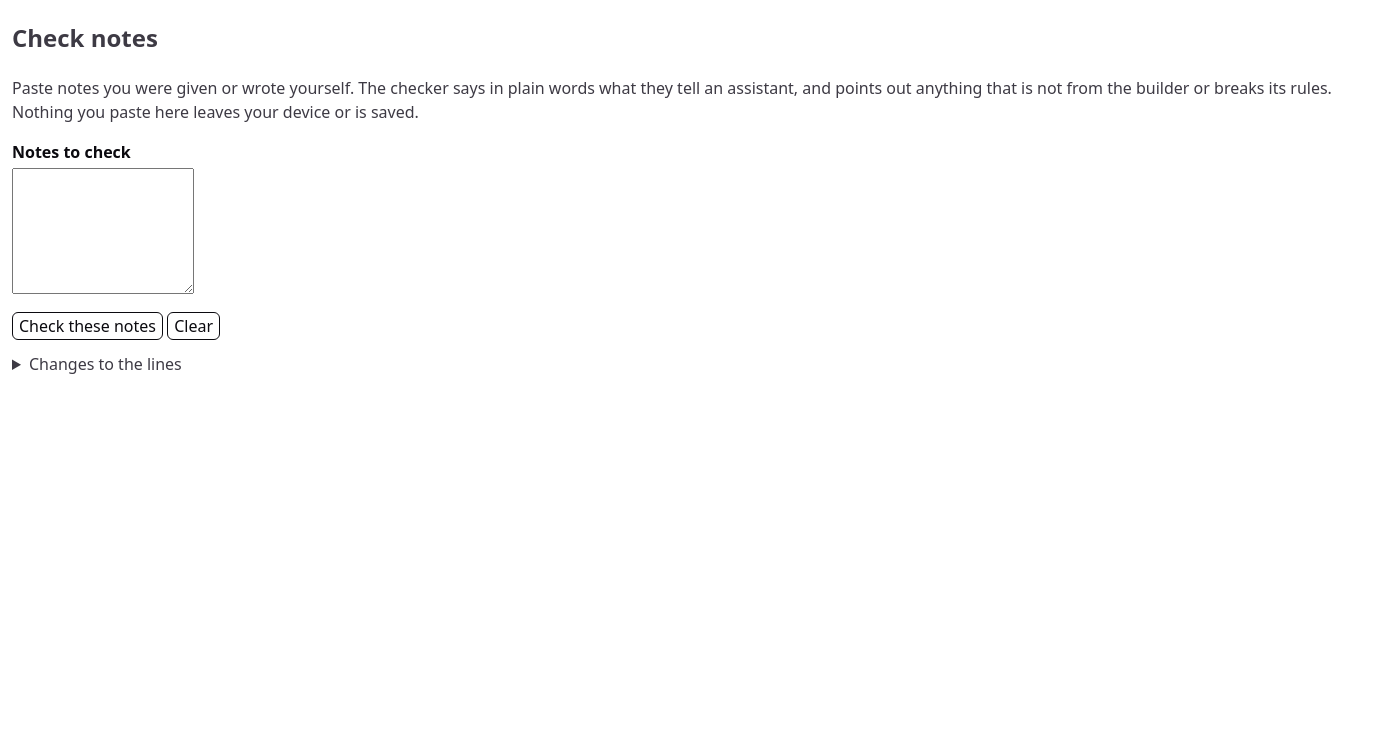
Test case: the checker › reads clean notes and says what each line tells the assistant, in plain words
Type "# How I like explanations My own preferences, not an assessment of me. Written 2026-11. After 2027-05, or if you can't tell today's date, check with me before relying on the topic lines. ## Always - M" into the text box with id "check-input" at (103, 231), box [12,168,194,294]
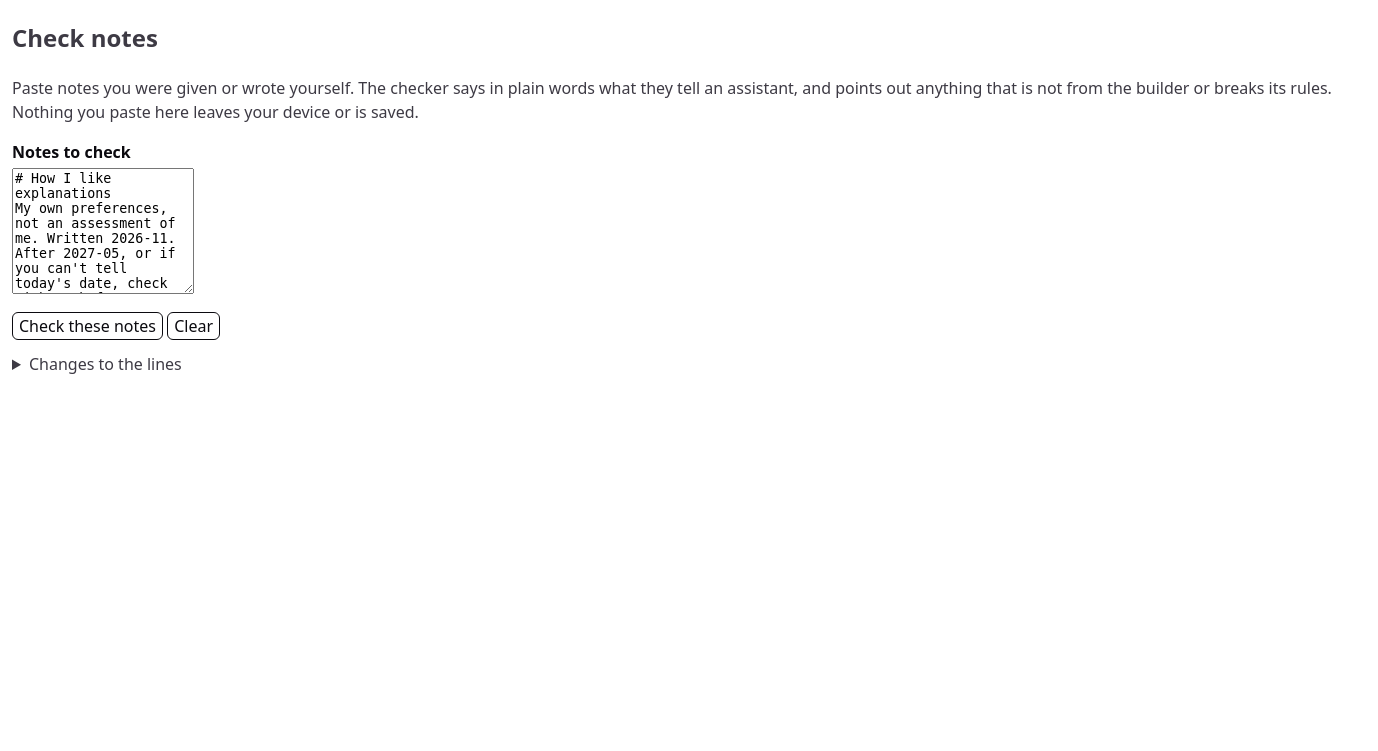
Click the button "Check these notes" at (88, 326), box [12,312,163,340]
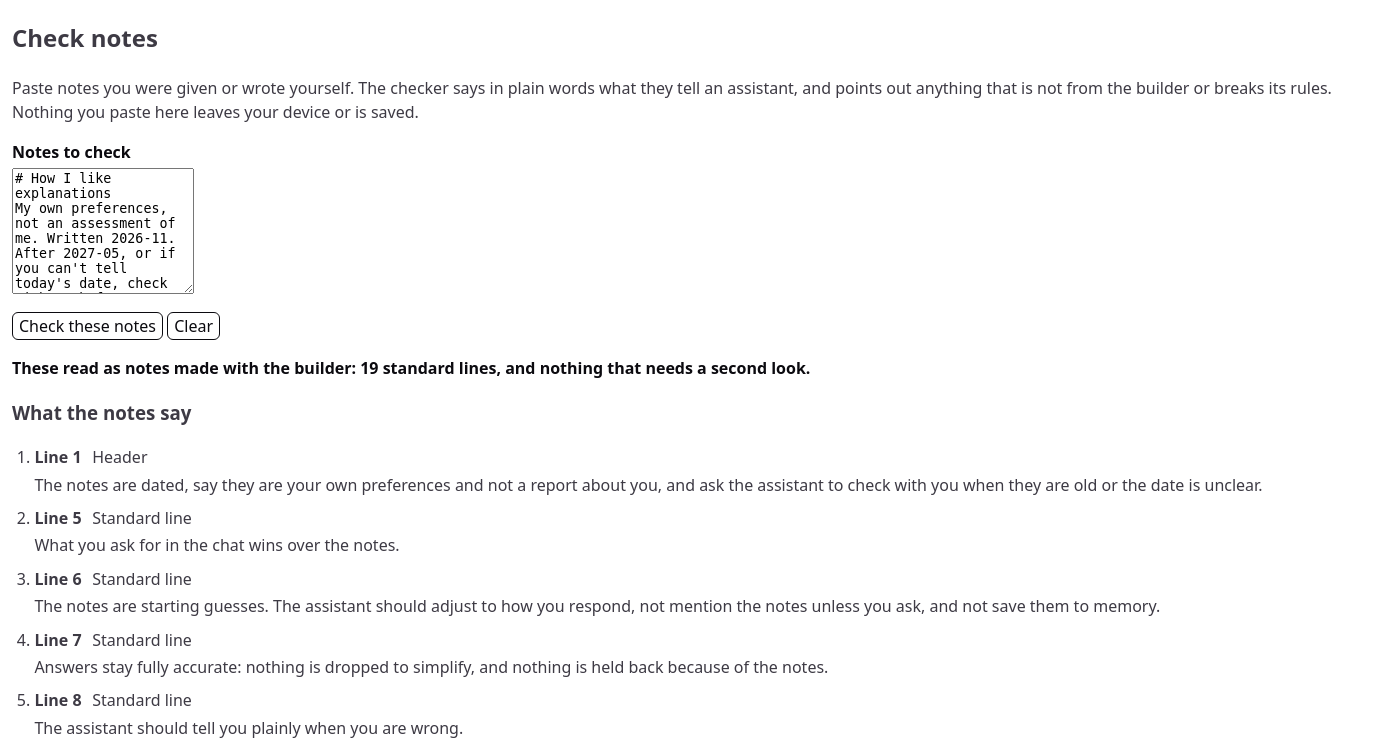
Check: the message with test id "check-summary" shows "These read as notes made with the builder", box [12,357,810,379]
